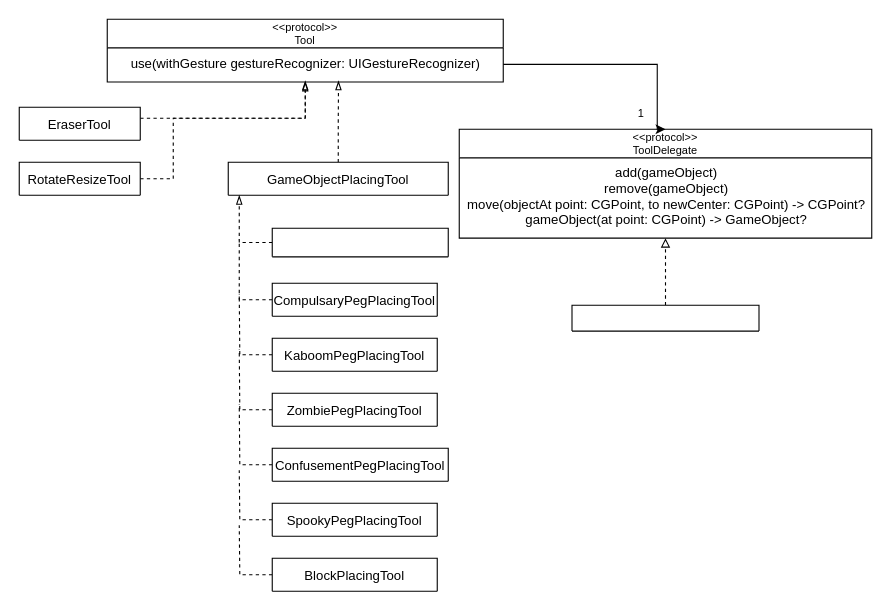
This 891x611 diagram has some shape labels left out. Each missing label, with the centre of its shape:
"LevelDesignerViewController" belongs at [665,317].
"OptionalPegPlacingTool" belongs at [359,242].
